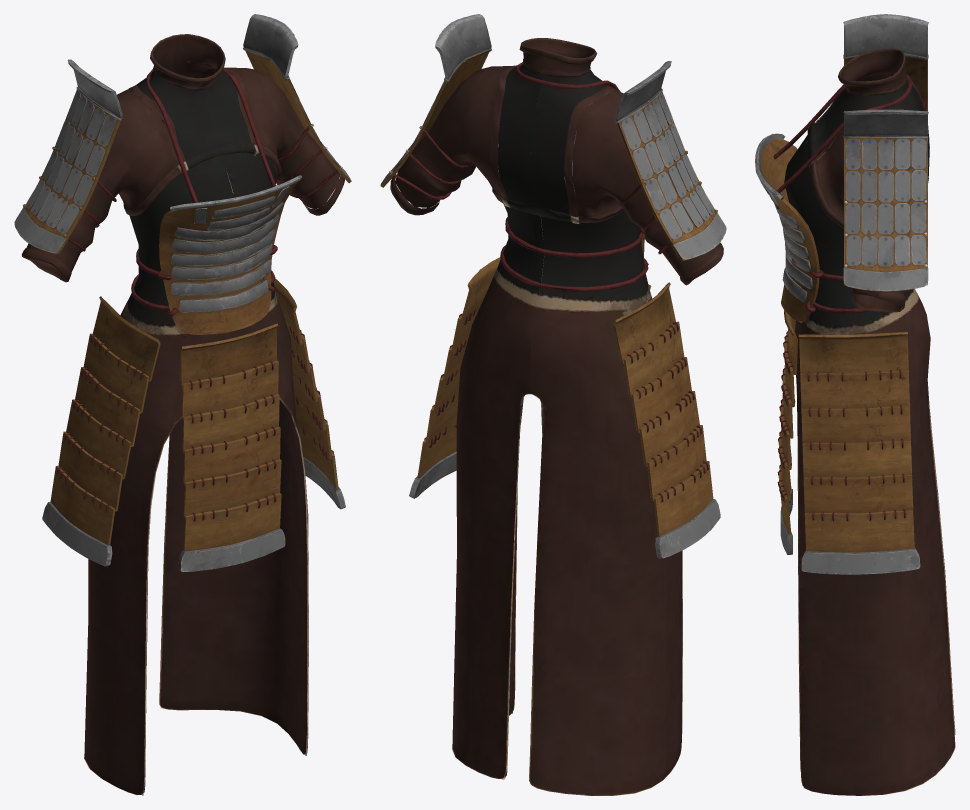
The model's file is lotus_samurai.glb.
The picture shows the model from 3 angles, left to right: view 1: azimuth 30°, elevation 25°; view 2: azimuth 150°, elevation 25°; view 3: azimuth 270°, elevation 25°; orthographic projection. The views are drawn at different scales.
Visible parts, largest first — view 1: outfit; view 2: outfit; view 3: outfit.
Part boxes in pixels (x1=…): outfit: x1=14, y1=14, x2=351, y2=795; outfit: x1=380, y1=14, x2=726, y2=795; outfit: x1=755, y1=14, x2=955, y2=795.
Bounding box in the file's own units: 0.8503 × 1.8 × 0.4717.
4 materials, 4 textured.
